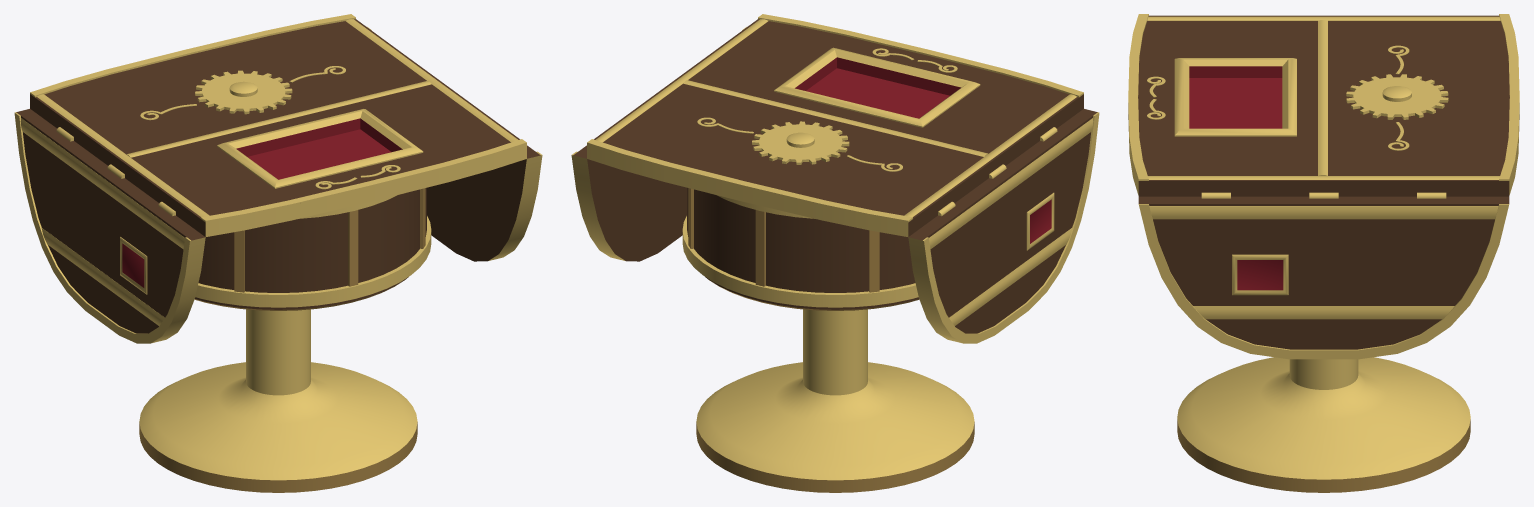
Rendered from combat-table.glb.
3 renders of one model, left to right at view 1: azimuth 30°, elevation 25°; view 2: azimuth 150°, elevation 25°; view 3: azimuth 270°, elevation 25°, orthographic. The views are drawn at different scales.
Parts seen in each view (by area): view 1: table-body, leaf-left, leaf-right; view 2: table-body, leaf-left, leaf-right; view 3: table-body, leaf-right.
Boxes of the visible parts, left/top/right/bottom form: table-body: left=30, top=14, right=526, bottom=492; leaf-left: left=14, top=109, right=205, bottom=343; leaf-right: left=367, top=27, right=542, bottom=261; table-body: left=587, top=14, right=1083, bottom=492; leaf-left: left=908, top=109, right=1099, bottom=343; leaf-right: left=571, top=27, right=746, bottom=261; table-body: left=1128, top=14, right=1519, bottom=492; leaf-right: left=1138, top=192, right=1509, bottom=359.
Size of the model in its own units: 0.878 by 0.768 by 0.8.
